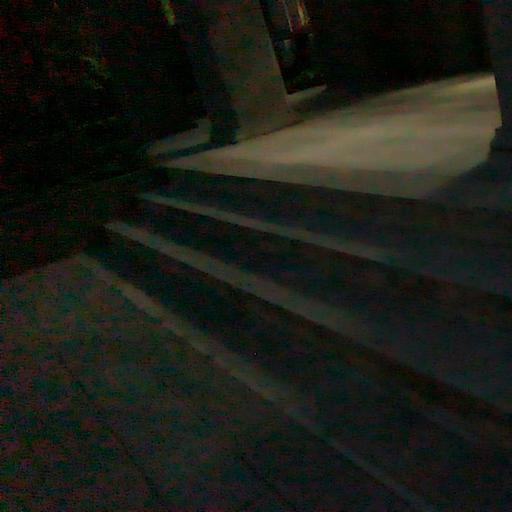stairs: (89, 170, 511, 510)
